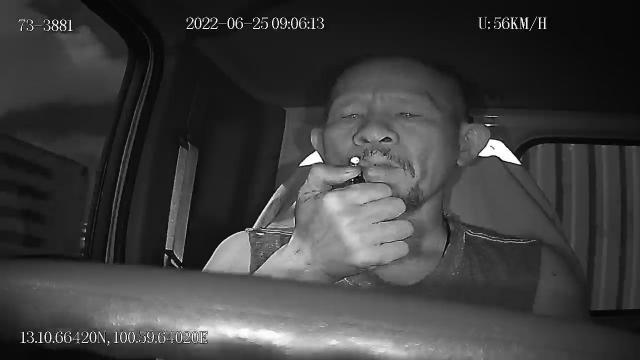SafeDriving: (387, 98, 434, 129), (329, 100, 369, 132)
Smoking: (349, 154, 378, 168)
